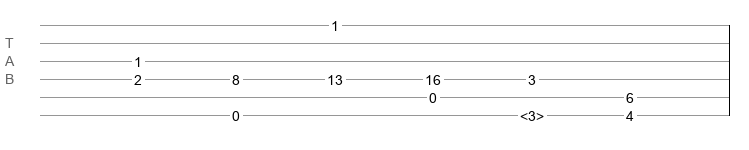0: (232, 108, 240, 118), (429, 90, 437, 100)
1: (134, 54, 142, 64), (331, 18, 339, 28)
13: (327, 72, 343, 82)
16: (425, 72, 441, 82)
2: (134, 72, 142, 82)
3: (528, 72, 536, 82)
4: (626, 108, 634, 118)
6: (626, 90, 634, 100)
8: (232, 72, 240, 82)
harmonic: (520, 108, 544, 118)
